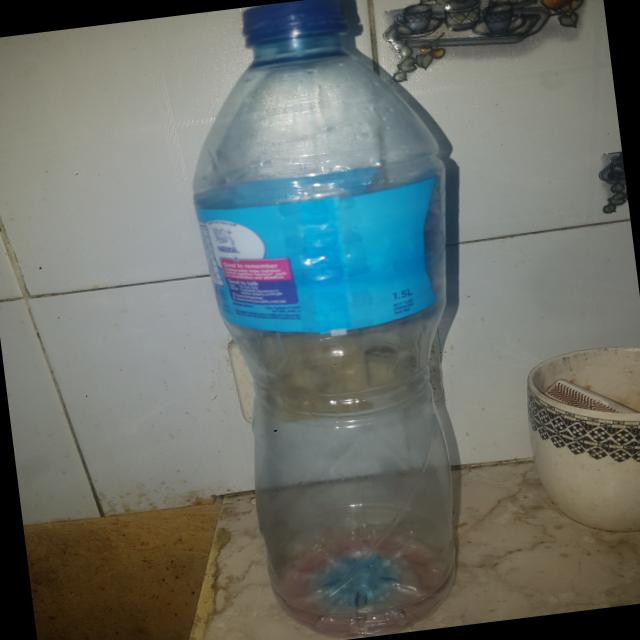general: (168, 0, 504, 640)
